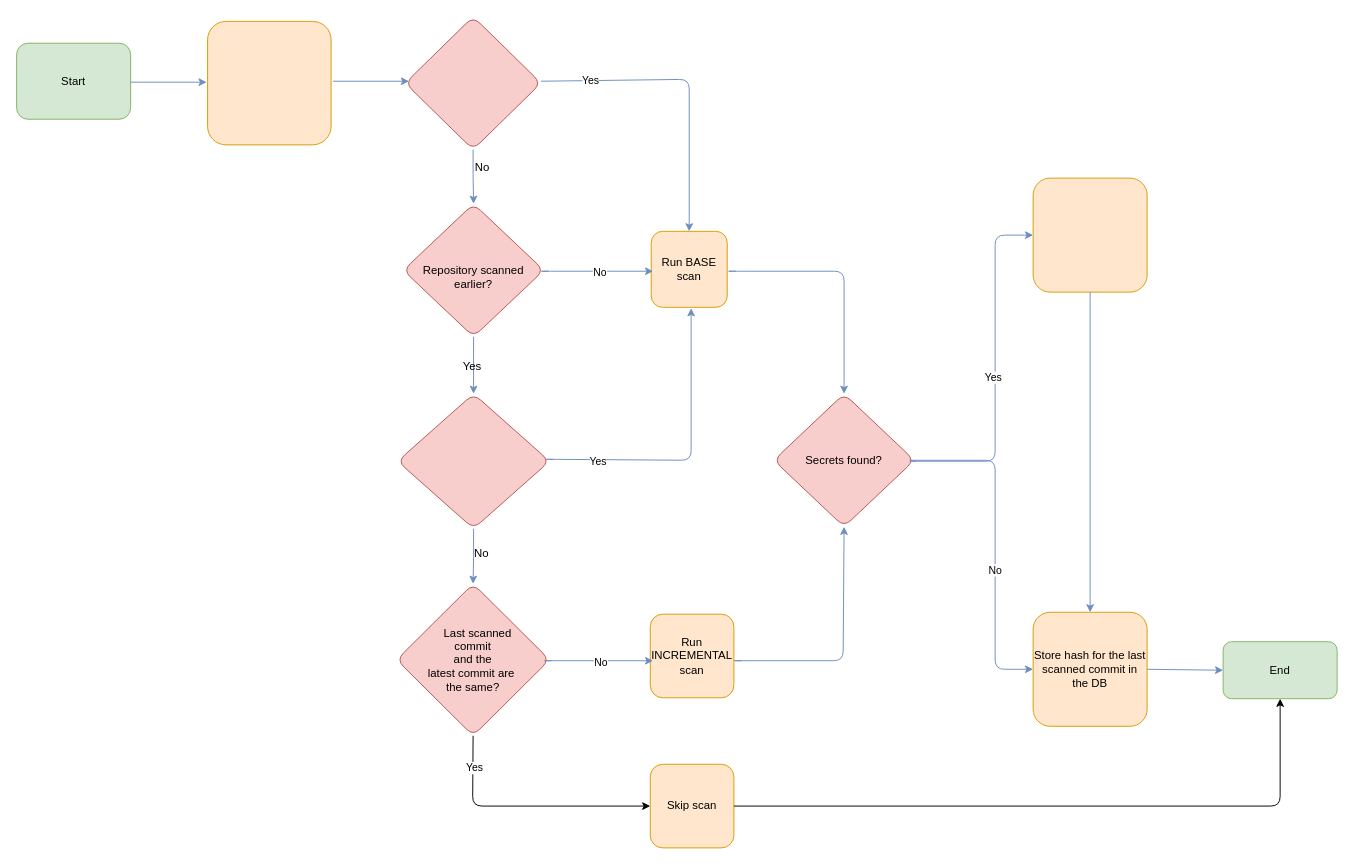
This 1354x865 diagram has some shape labels left out. The centre of each missing label's shape, as x and y in pixels:
Active rule-pack different from previous scan rule-pack?: the point at 473,461
Forced base scan enabled?: the point at 472,83
Store findings in the DB: the point at 1089,234
VCS scanner worker picks up repository from the queue: the point at 269,82
